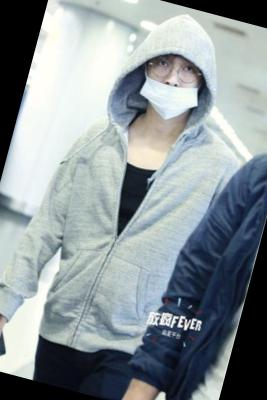mask_weared_incorrect: (132, 49, 209, 127)
